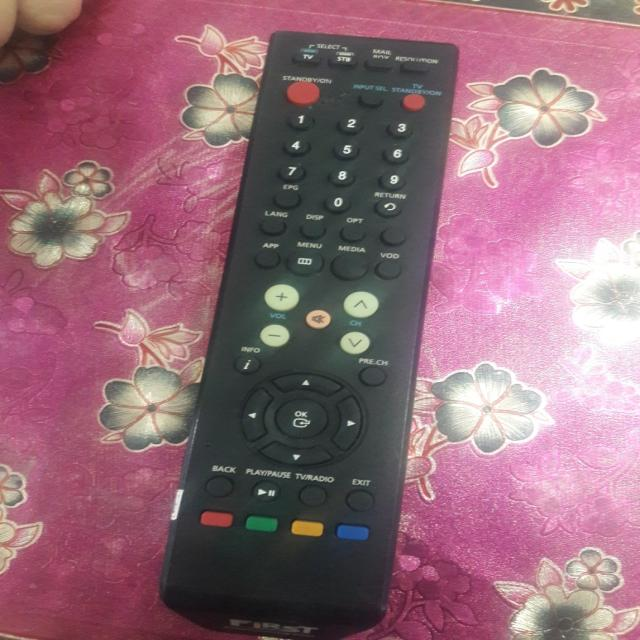remote: (168, 27, 458, 640)
